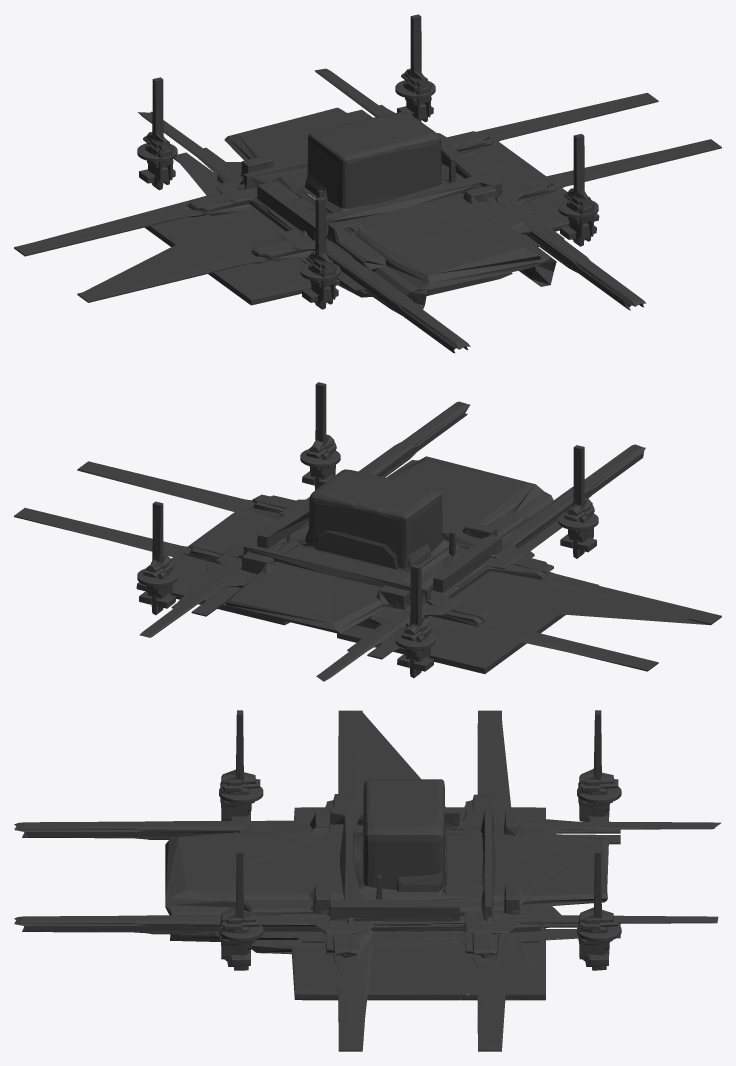
File: tmp_courier_drone_preview.glb
The picture shows the model from 3 angles, top to bottom: view 1: azimuth 30°, elevation 25°; view 2: azimuth 150°, elevation 25°; view 3: azimuth 270°, elevation 25°; orthographic projection. The views are drawn at different scales.
Parts seen in each view (by area): view 1: body, cargo_door, rotor_rr, rotor_rl, rotor_fl, rotor_fr; view 2: body, cargo_door, rotor_rl, rotor_rr, rotor_fl, rotor_fr; view 3: body, cargo_door, rotor_rl, rotor_rr, rotor_fr, rotor_fl.
Boxes of the visible parts, box(x1,y1,x2,y2) form: body: box(14, 14, 721, 353); cargo_door: box(175, 147, 599, 305); rotor_rr: box(137, 136, 209, 190); rotor_rl: box(387, 73, 435, 119); rotor_fl: box(558, 192, 598, 238); rotor_fr: box(300, 255, 340, 301); body: box(14, 382, 721, 681); cargo_door: box(173, 512, 599, 645); rotor_rl: box(137, 555, 207, 602); rotor_rr: box(385, 618, 435, 657); rotor_fl: box(300, 436, 340, 474); rotor_fr: box(558, 499, 598, 537); body: box(14, 710, 721, 1051); cargo_door: box(260, 807, 522, 1000); rotor_rl: box(535, 913, 621, 957); rotor_rr: box(521, 775, 621, 821); rotor_fr: box(219, 775, 263, 820); rotor_fl: box(219, 913, 263, 958).
Bounding box in the file's own units: 404 × 96.17 × 356.
1 material, 1 textured.
